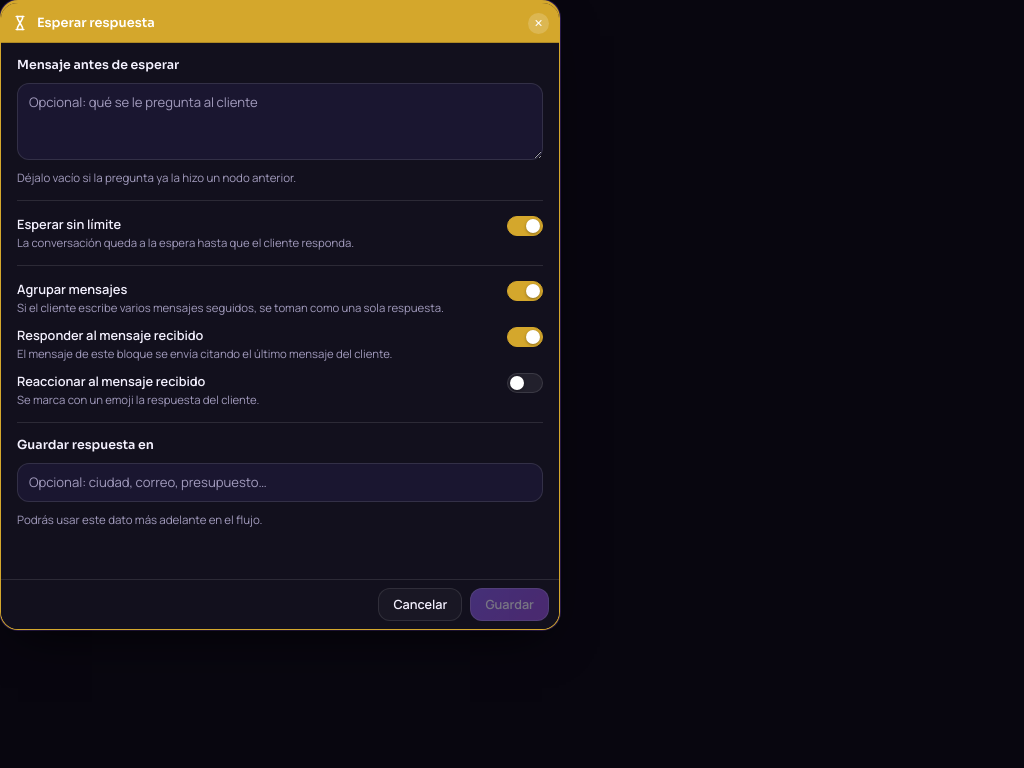
it: Cancelar y cerrar con la X › la X con cambios sin guardar PREGUNTA antes de salir
The width and height of the screenshot is (1024, 768).
Type "a medio escribir" into the text box labelled "Mensaje antes de esperar" at x=280, y=122, box [17,83,543,160]
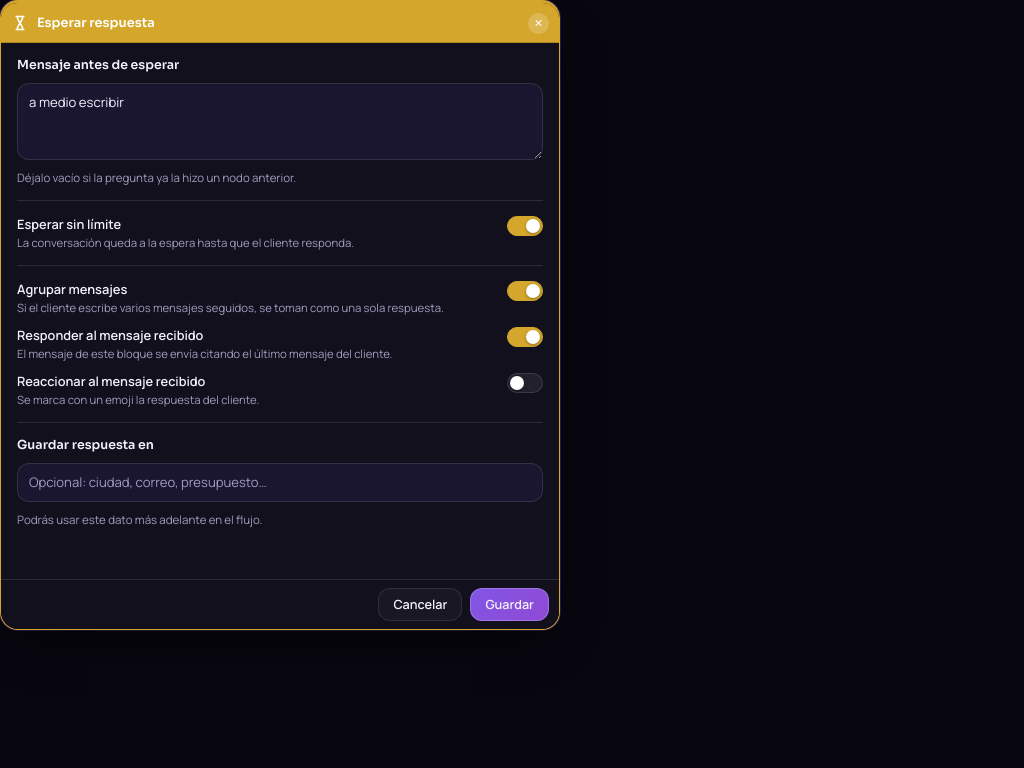
Click the button named "Cerrar" at x=538, y=23, box [528,12,549,34]
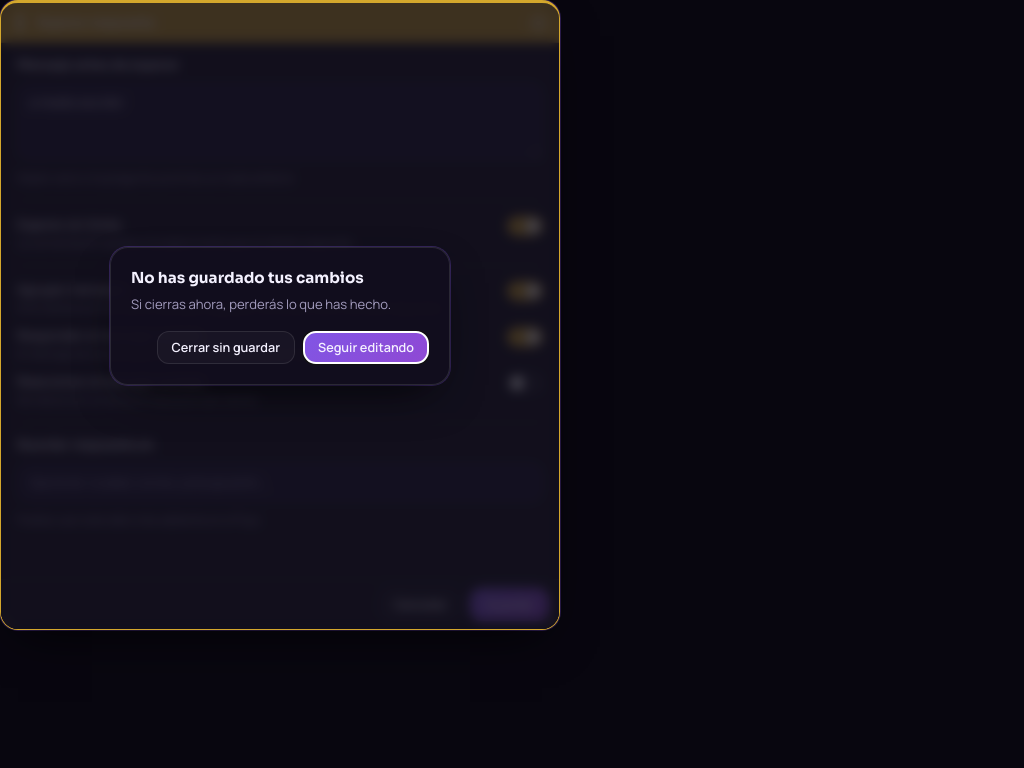
Expected: the dialog with class "node-expanded__guard" is shown, [1,3,559,629]
